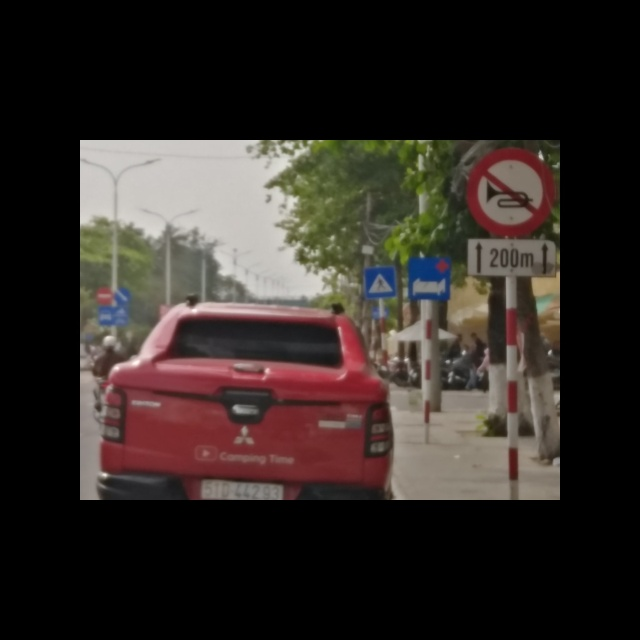Bệnh viện: (408, 258, 449, 304)
Cấm bấm còi: (466, 148, 555, 236)
Đường dành cho người đi bộ: (358, 266, 396, 299)
